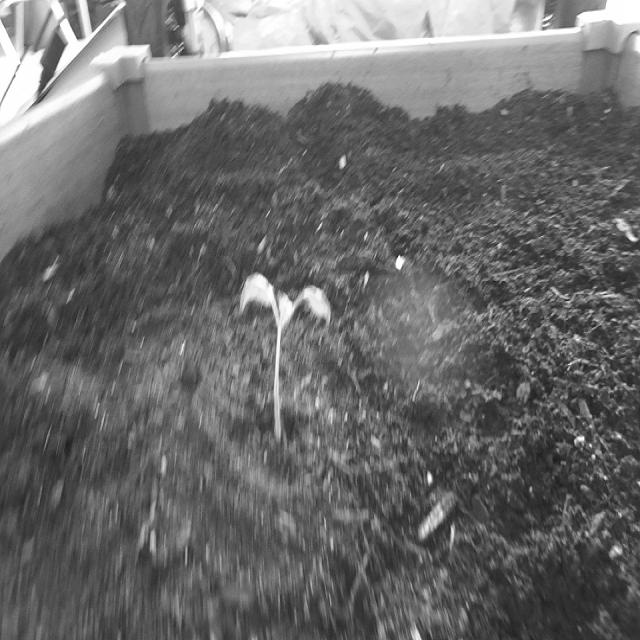Healthy: (232, 244, 338, 464)
